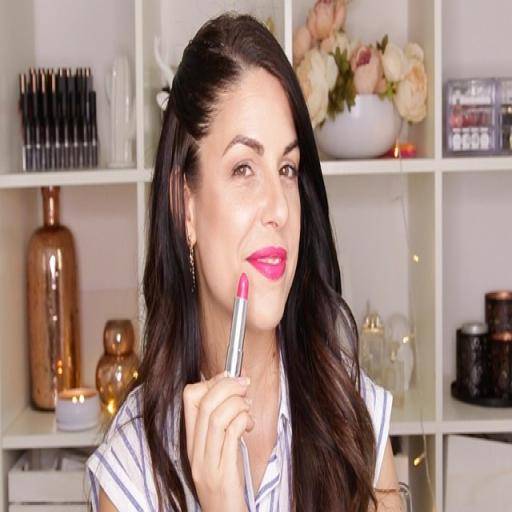lipstick: (225, 274, 248, 376)
